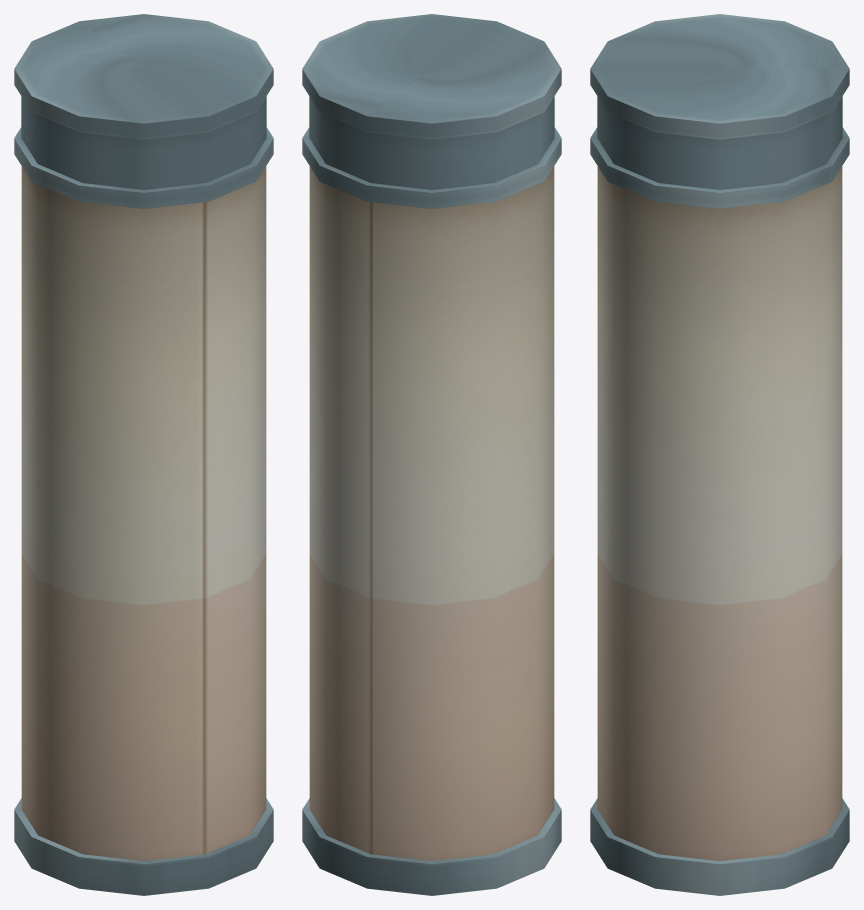
The model's file is set_round_pillar_01.fbx.
The picture shows the model from 3 angles, left to right: view 1: azimuth 30°, elevation 25°; view 2: azimuth 150°, elevation 25°; view 3: azimuth 270°, elevation 25°; orthographic projection.
Parts seen in each view (by area): view 1: set_round_pillar_01; view 2: set_round_pillar_01; view 3: set_round_pillar_01.
Boxes of the visible parts, box(x1,y1,x2,y2) form: set_round_pillar_01: box(14, 14, 273, 895); set_round_pillar_01: box(302, 14, 561, 895); set_round_pillar_01: box(590, 14, 849, 895).
Bounding box in the file's own units: 90 × 296 × 90.
